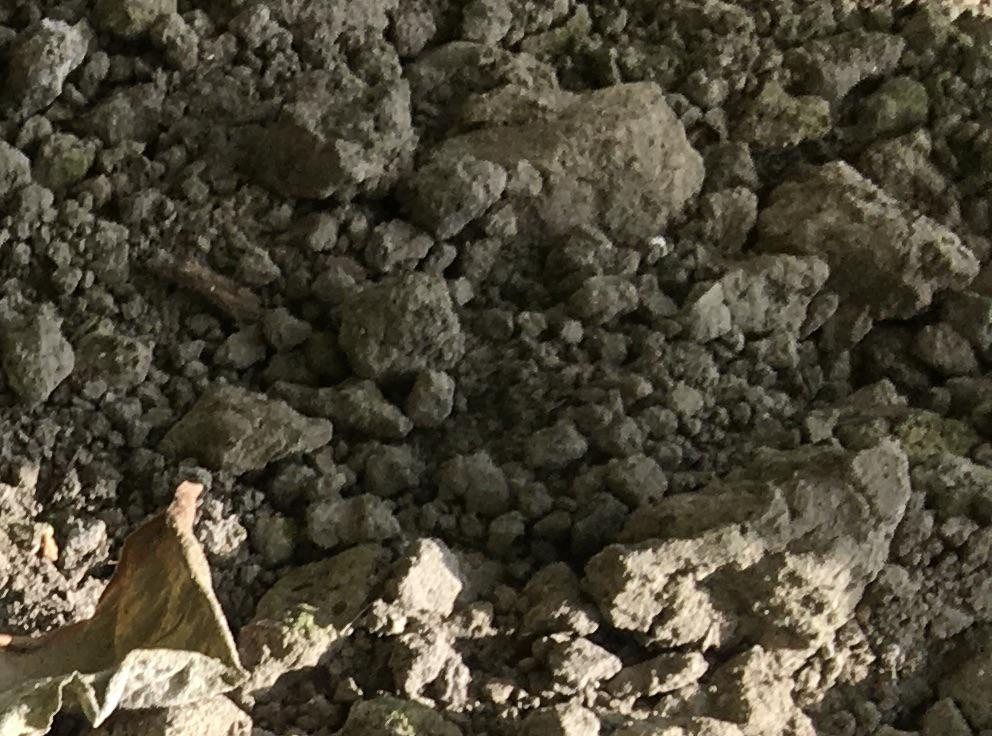block: (593, 442, 910, 655), (417, 76, 701, 252), (763, 155, 981, 325), (261, 65, 422, 196)
